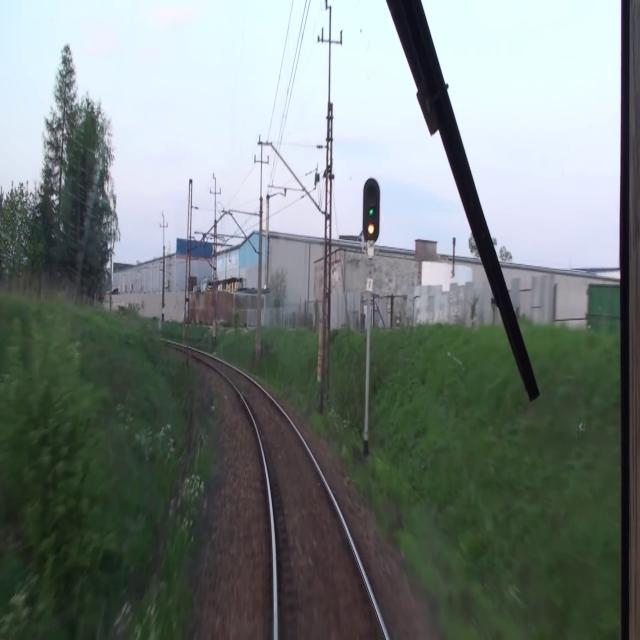rail-track: (202, 356, 385, 639)
